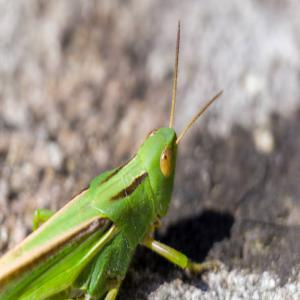locust: (2, 57, 196, 300)
